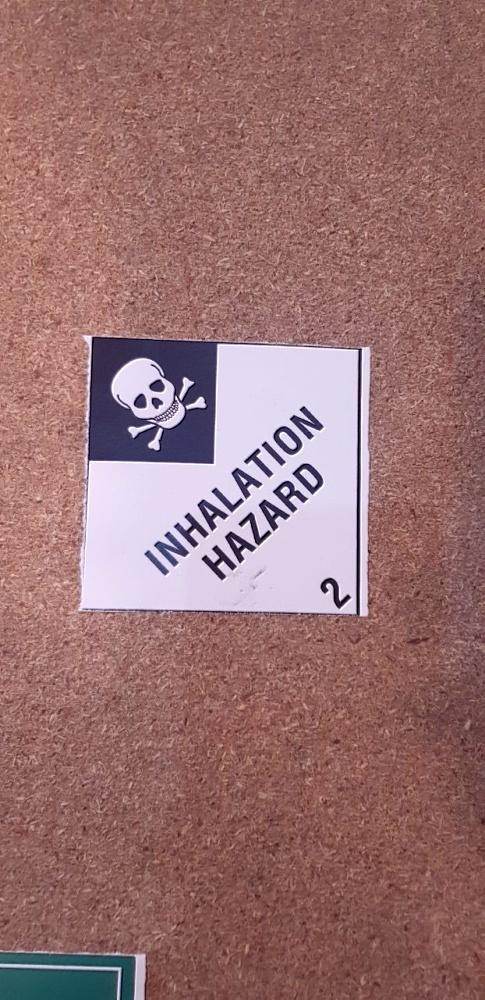poison: (82, 332, 375, 622)
